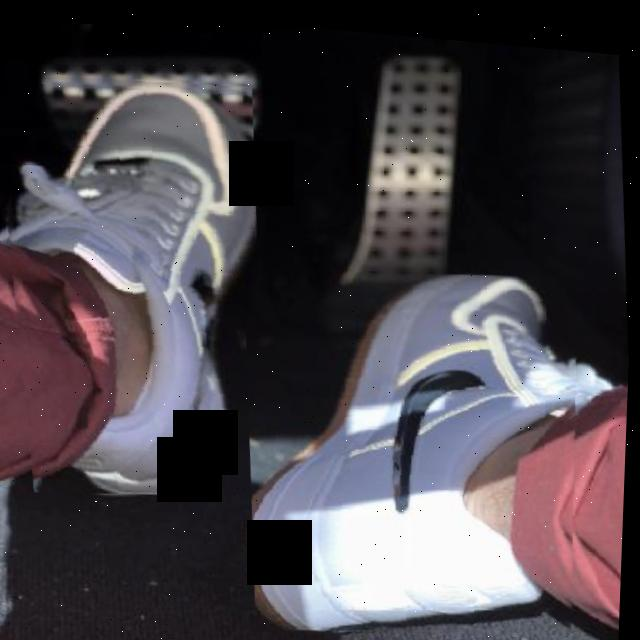shoe: (236, 242, 605, 640), (0, 55, 280, 509)
